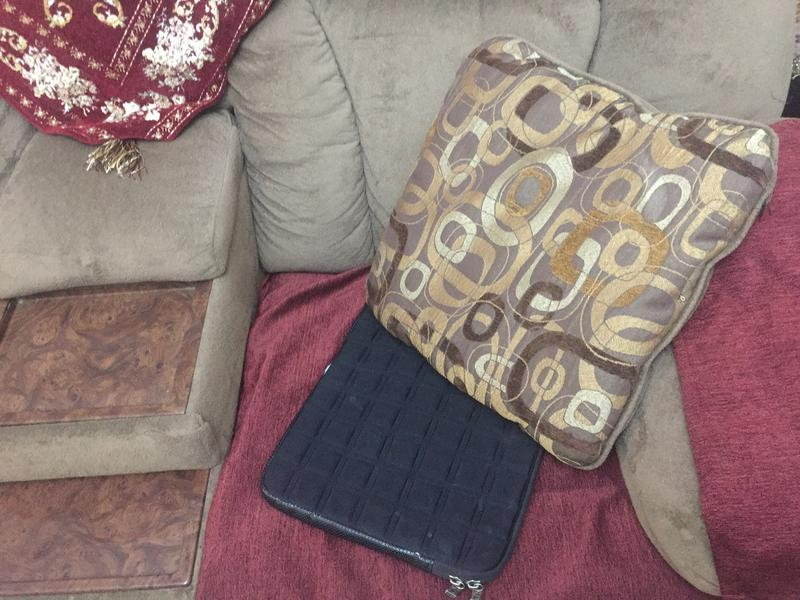cover: (265, 303, 546, 600)
